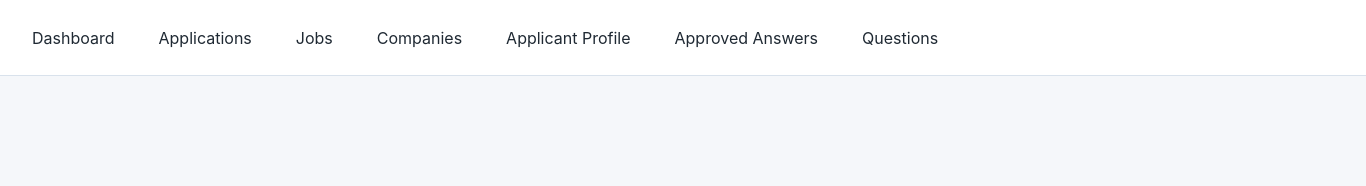
Test: AppLayout › opens for hover and keyboard focus without making hover mandatory
The image size is (1366, 186).
Hover over the button "Applicant Profile": (568, 38) x1=490 y1=16 x2=646 y2=59
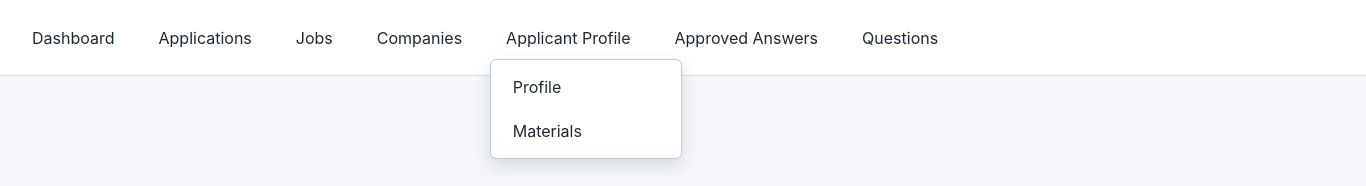
Expected: the menu item "Materials" is shown, x1=513 y1=121 x2=582 y2=141
Move the pointer off the button "Applicant Profile", box x1=490 y1=16 x2=646 y2=59
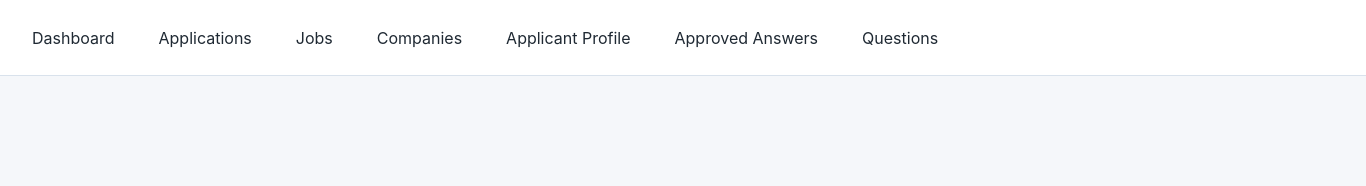
Focus the button "Applicant Profile": (568, 38) x1=490 y1=16 x2=646 y2=59
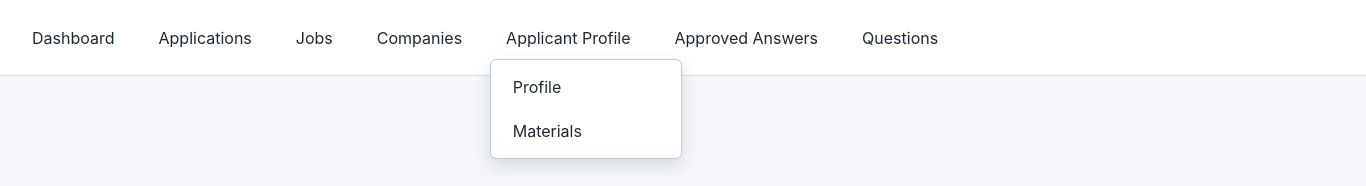
Expected: the menu item "Profile" is shown, x1=513 y1=77 x2=561 y2=97
